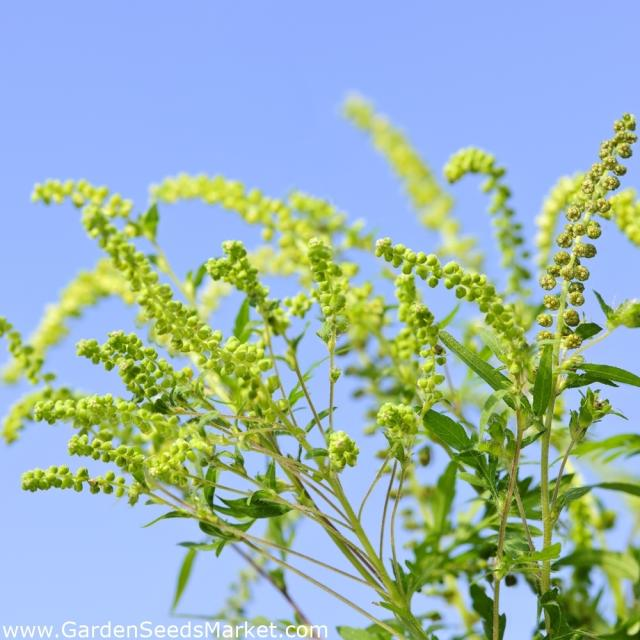ambrosia: (372, 124, 636, 372), (76, 179, 354, 373), (34, 375, 271, 533)
